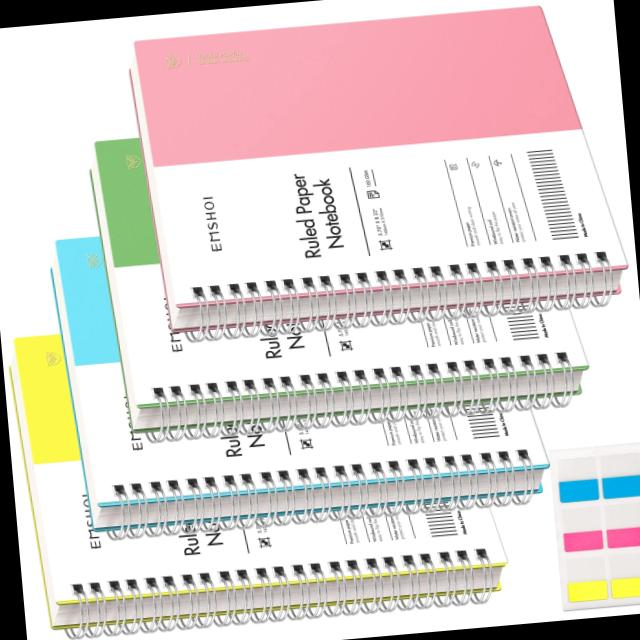notebook: (0, 0, 634, 640)
